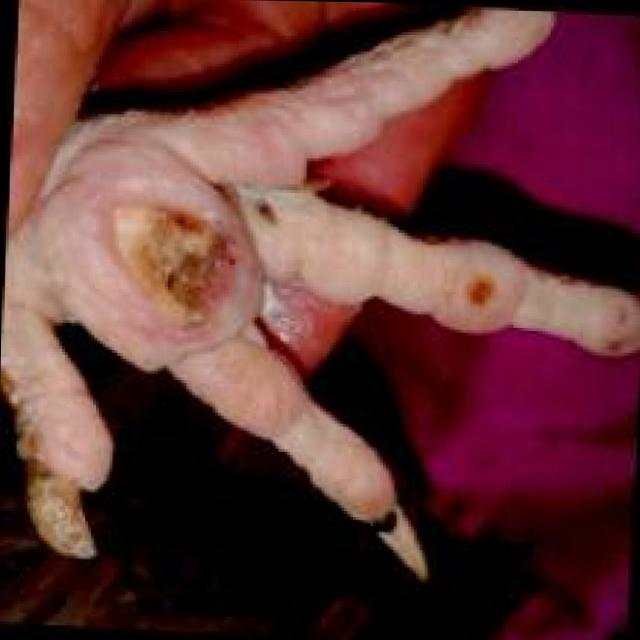Bumble foot: (56, 170, 264, 340), (437, 247, 512, 334)
